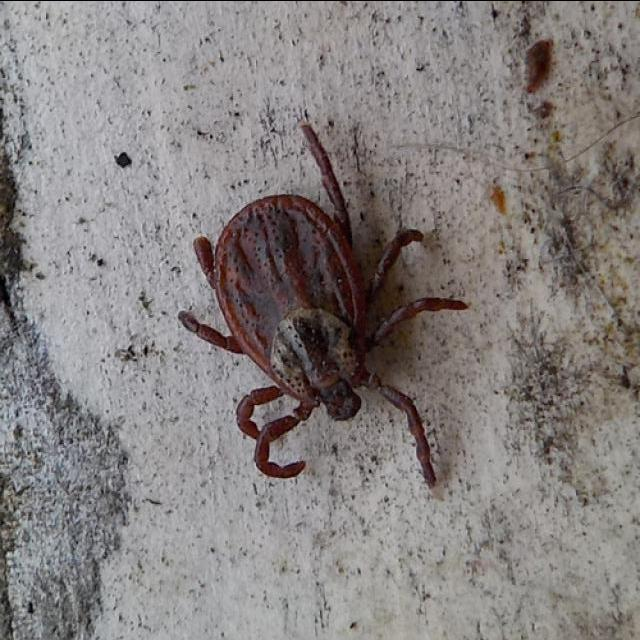Dermacentor Reticulatus-F: (180, 121, 470, 486)
